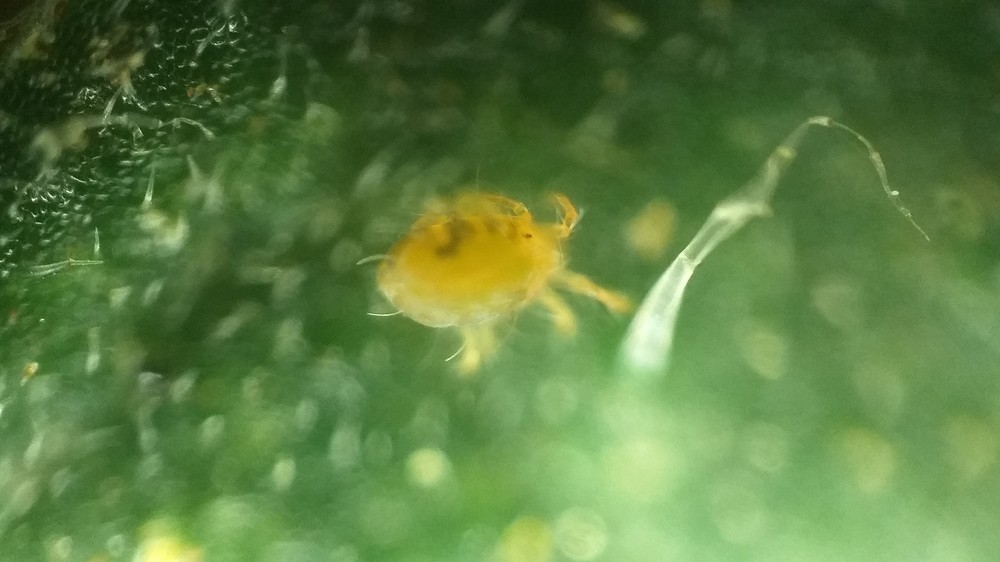Aracnido Rojo: (329, 153, 668, 376)
